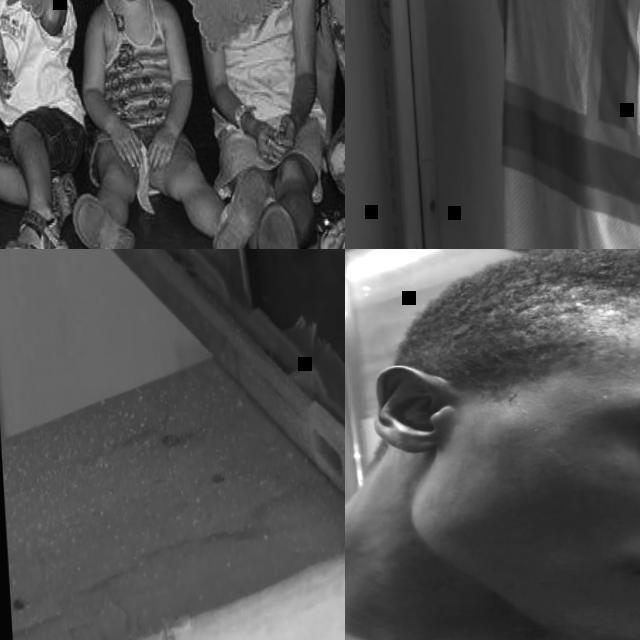vest: (478, 0, 640, 249)
